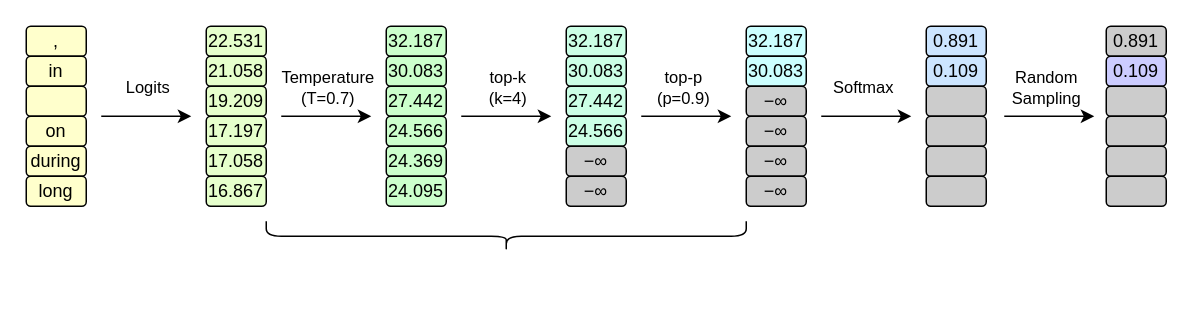
The diagram is 1193 pixels wide and 323 high, and some of its shapes have lost their labels. Here are the shapes that lost their labels. From the top down, the centre of each, then its label:
point 55,100: there
point 505,235: Filter
